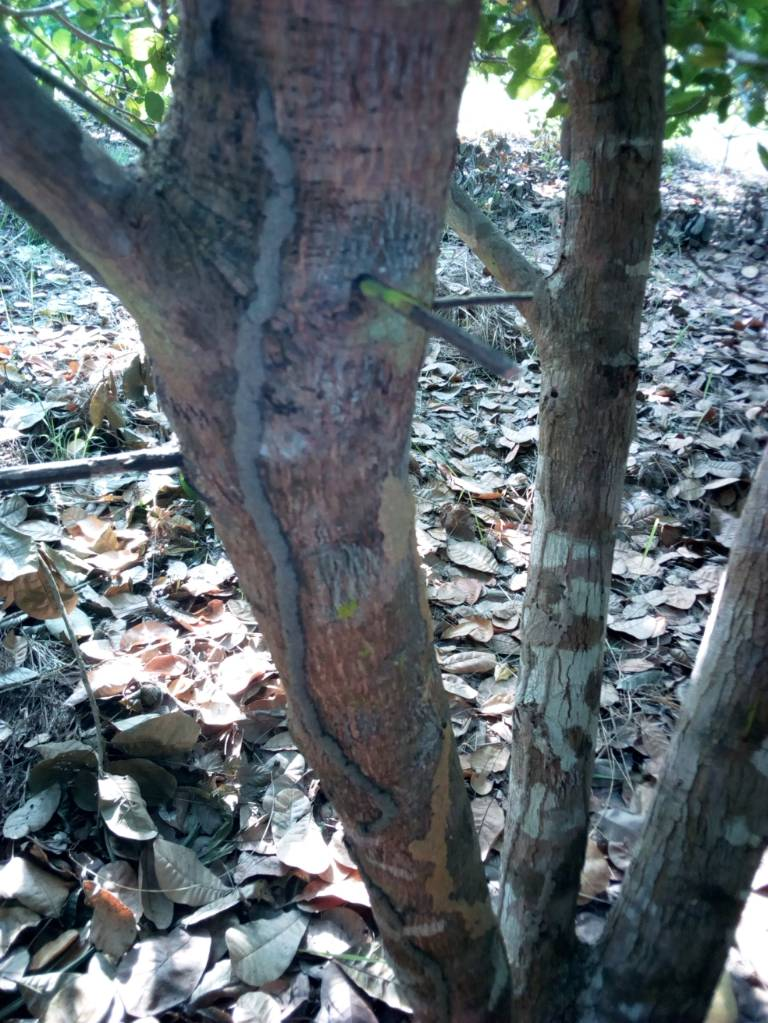Termites: (297, 630, 466, 996), (235, 100, 329, 622)
